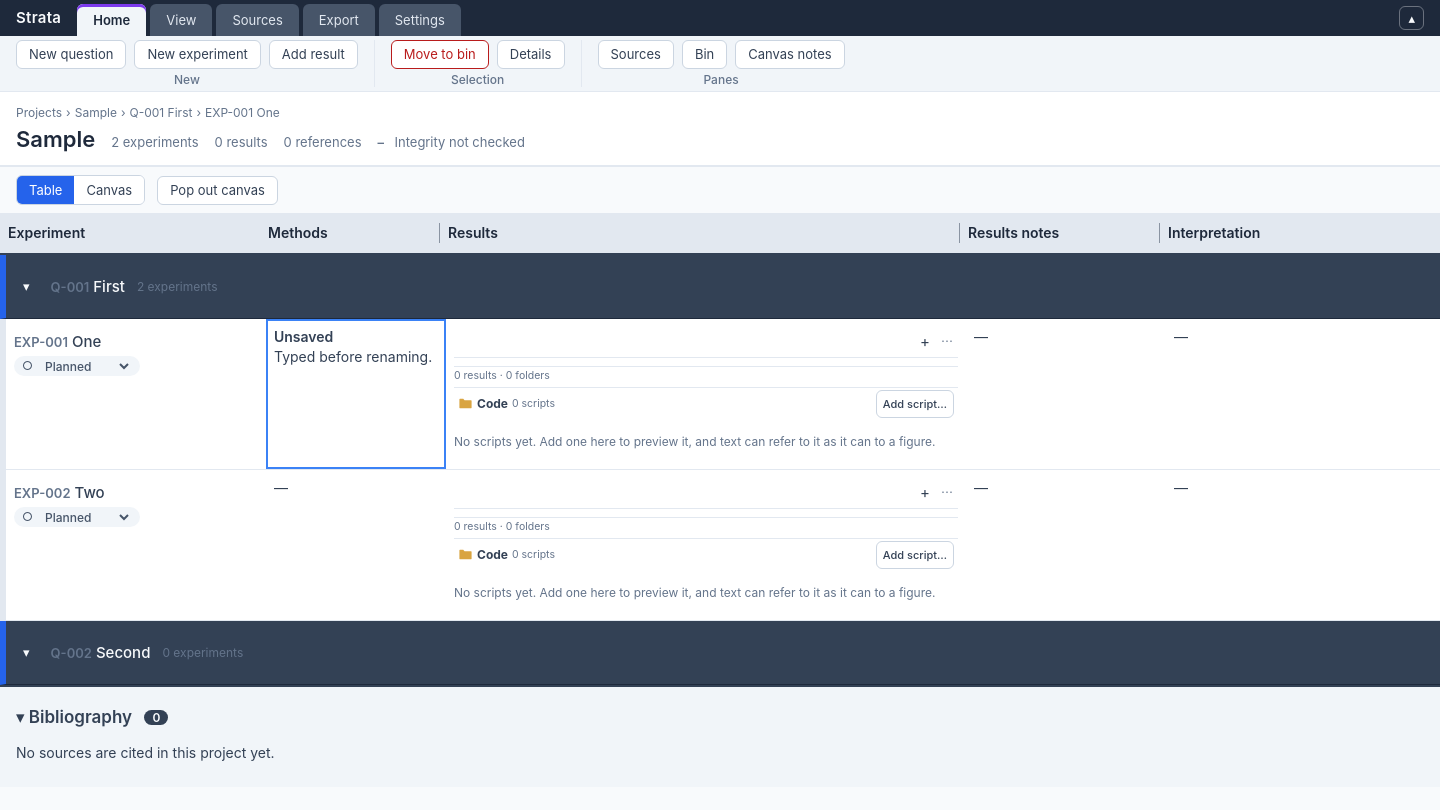
it: title and status in place (FR-TBL-11) › saves and closes an open section editor before renaming
Double-click the button "EXP-002 Two" at (59, 492), box [14,478,105,506]
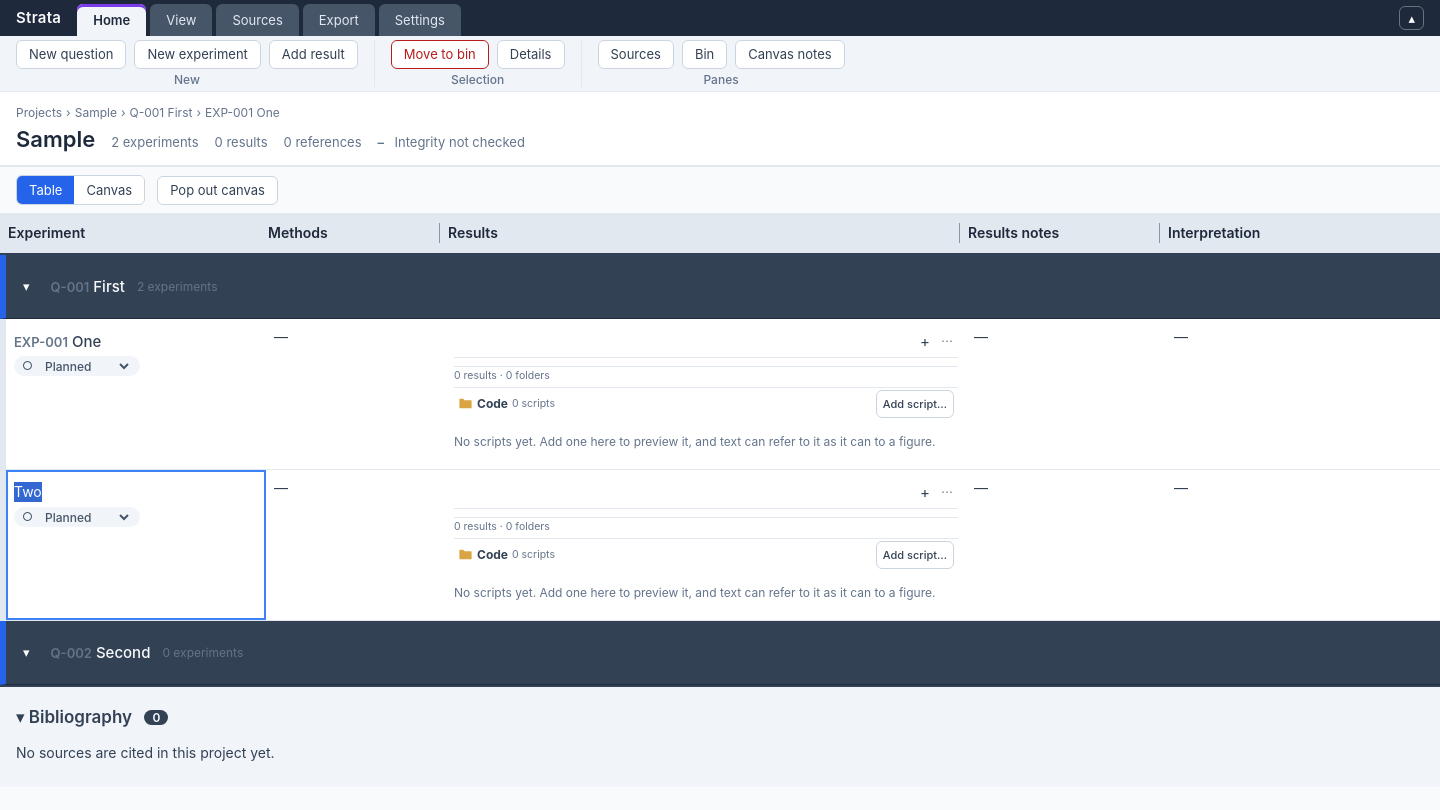
Now no fields are shown
